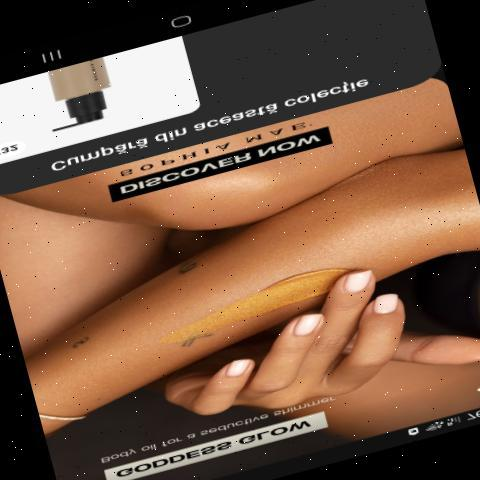Hands: (172, 239, 443, 454)
